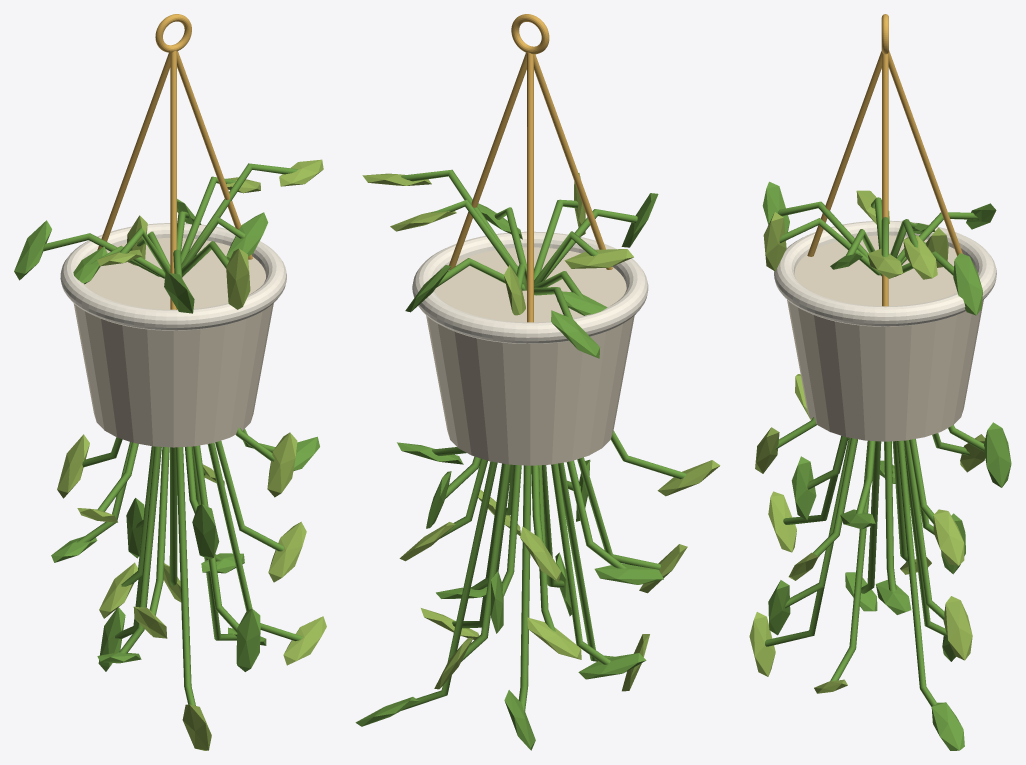
File: hanging-plant.glb
3 renders of one model, left to right at view 1: azimuth 30°, elevation 25°; view 2: azimuth 150°, elevation 25°; view 3: azimuth 270°, elevation 25°, orthographic. The views are drawn at different scales.
Visible parts, largest first — view 1: hanging_plant_batched; view 2: hanging_plant_batched; view 3: hanging_plant_batched.
Boxes of the visible parts, x1,y1,x2,y2 form: hanging_plant_batched: [14, 14, 326, 750]; hanging_plant_batched: [355, 14, 720, 750]; hanging_plant_batched: [749, 14, 1011, 750].
Size of the model in its own units: 0.806 by 1.8 by 0.6346.
